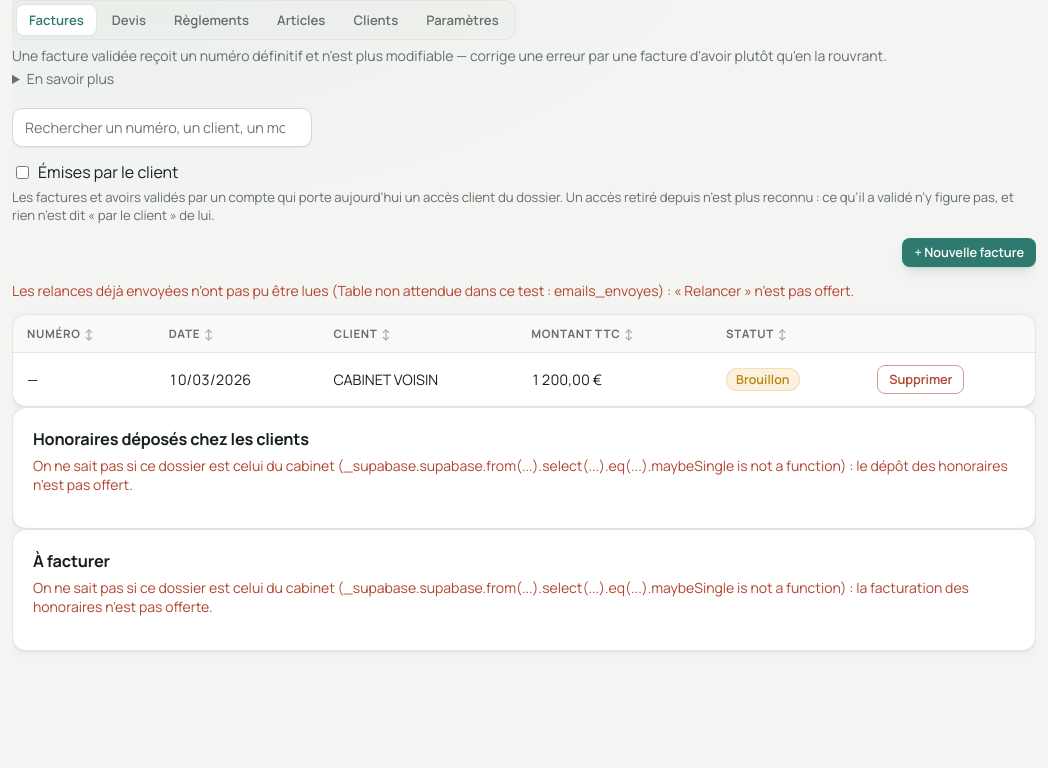
it: FacturesTab — la suppression d'un brouillon › retire le brouillon quand on confirme
Click the button "Supprimer" at (921, 379), box [877, 365, 964, 394]
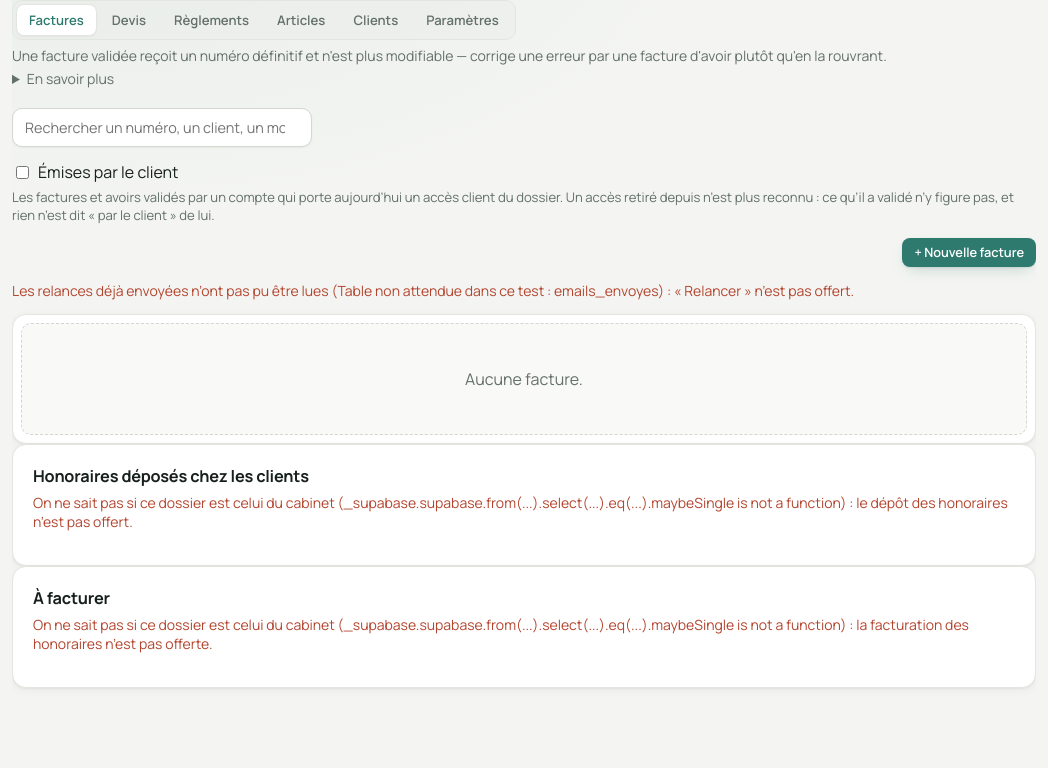
Now the text "Aucune facture." is shown, box [21, 323, 1027, 435]
